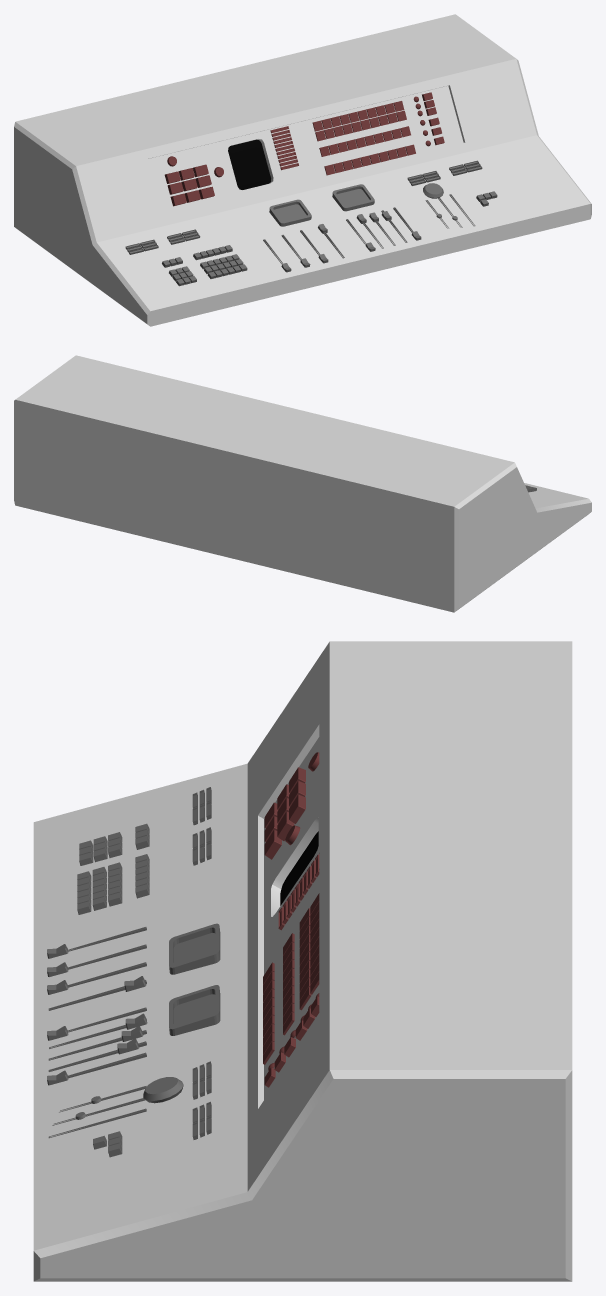
The model's file is ControlComputer03.fbx.
3 renders of one model, top to bottom at view 1: azimuth 30°, elevation 25°; view 2: azimuth 150°, elevation 25°; view 3: azimuth 270°, elevation 25°, orthographic. The views are drawn at different scales.
Parts seen in each view (by area): view 1: Control_Computer_03; view 2: Control_Computer_03; view 3: Control_Computer_03.
Boxes of the visible parts, x1,y1,x2,y2 form: Control_Computer_03: [14, 14, 591, 326]; Control_Computer_03: [14, 355, 591, 612]; Control_Computer_03: [33, 641, 572, 1281].
Bounding box in the file's own units: 82.61 × 18.78 × 43.32.
